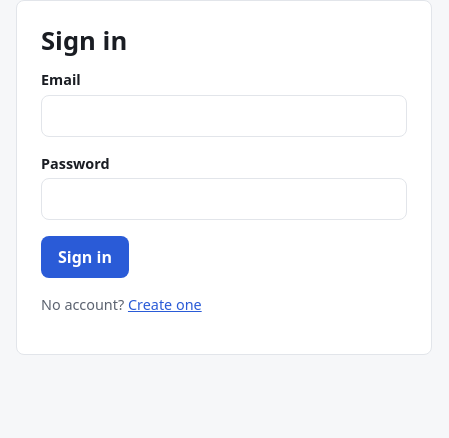
Test: LoginPage › reports an unreachable server distinctly from bad credentials
In the field labelled "Email": [224, 116] box [41,95,407,137], type "user@test.com"
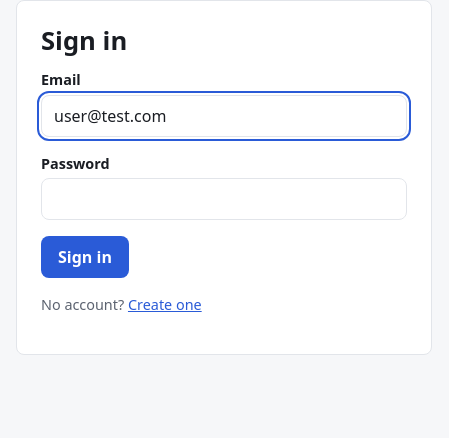
In the password field labelled "Password": [224, 199] box [41,178,407,220], type "User@1234"
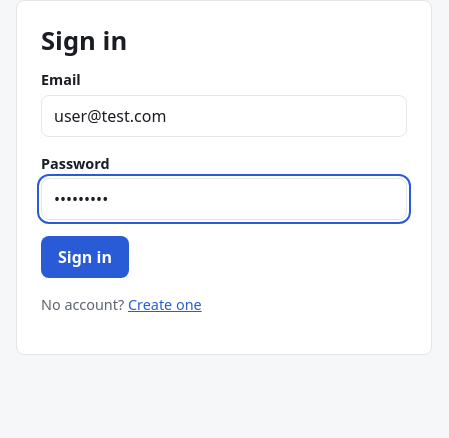
Click the button "Sign in": [85, 257] box [41,236,129,278]
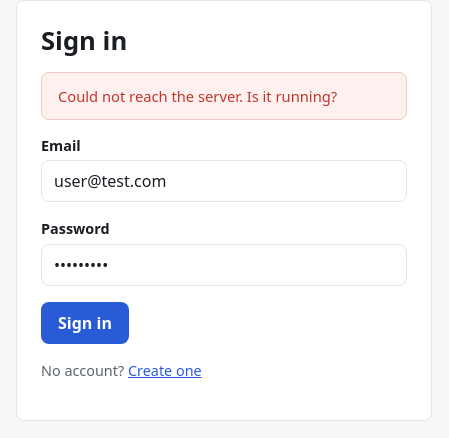
Expected: the message shows "Could not reach the server", [58,86,337,106]
